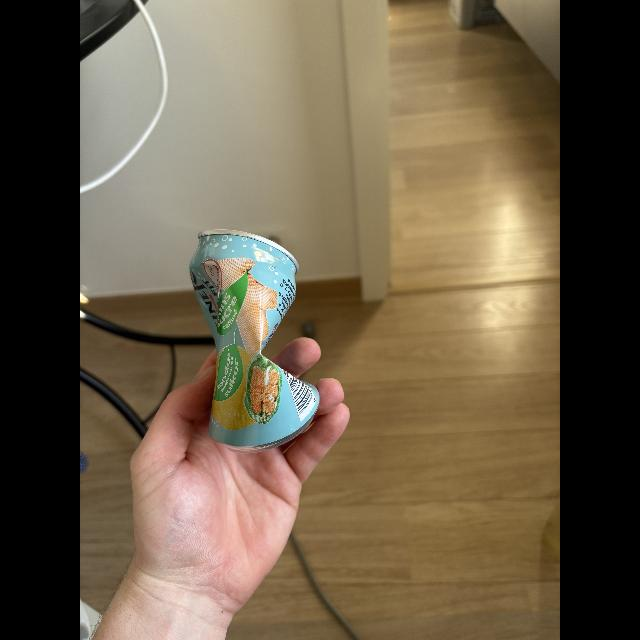Metal: (188, 227, 320, 453)
